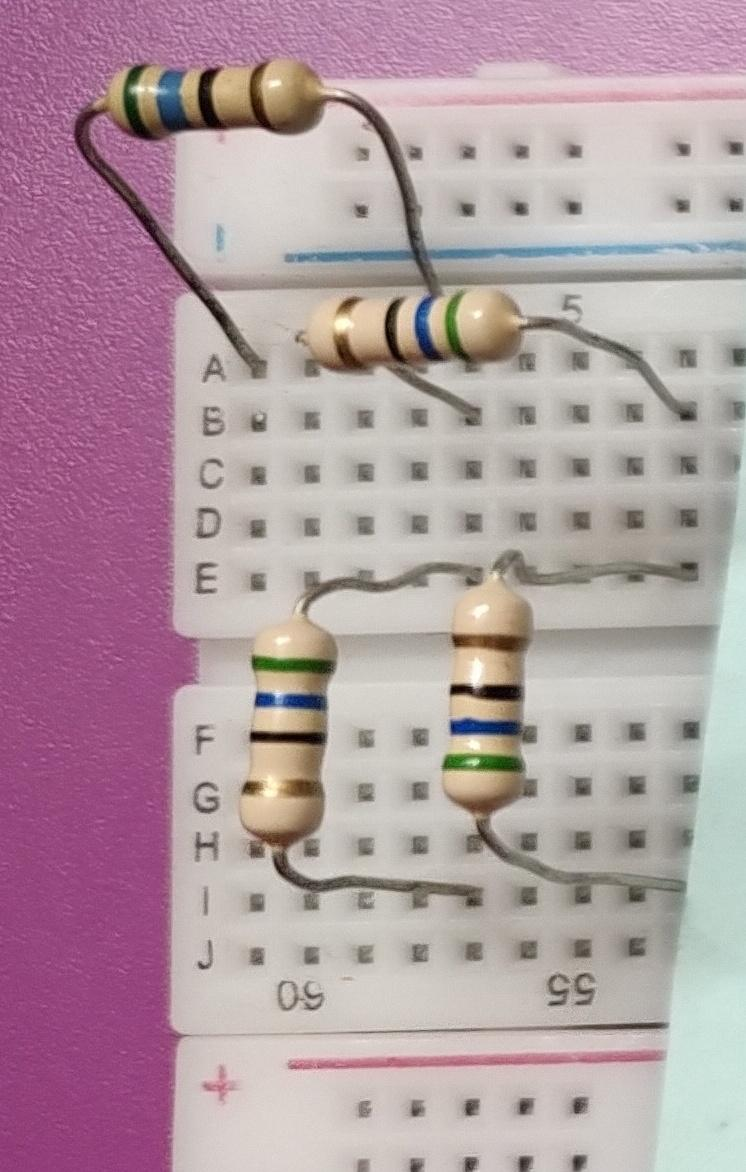resistor: (228, 611, 345, 877), (428, 566, 541, 820), (93, 36, 336, 141), (296, 276, 555, 370)
